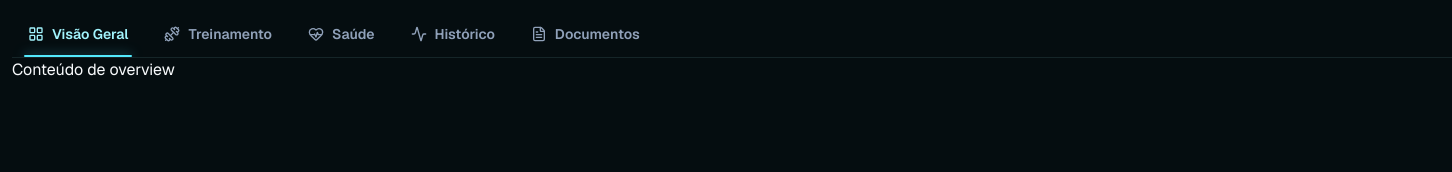
Scenario: K9ProfileTabs — troca de conteúdo › apenas um painel existe por vez (lazy por aba)
The width and height of the screenshot is (1452, 172).
Expected: the number of panels is 1, [12, 59, 175, 80]
Click the tab "Documentos". click: click(585, 34)
box: [515, 12, 656, 56]
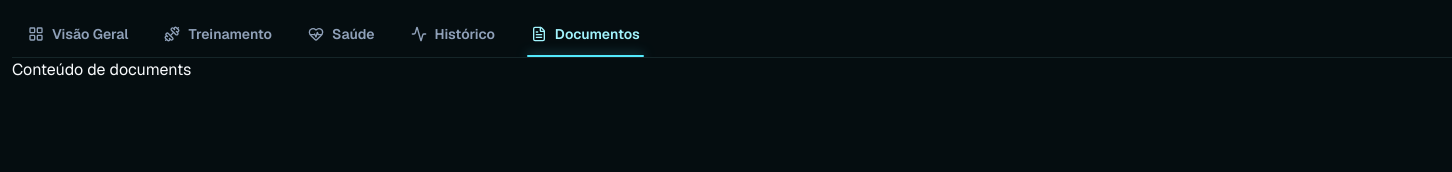
Expected: the number of panels is 1, [12, 59, 191, 80]
Expected: the panel reads "Conteúdo de documents", [12, 59, 191, 80]
